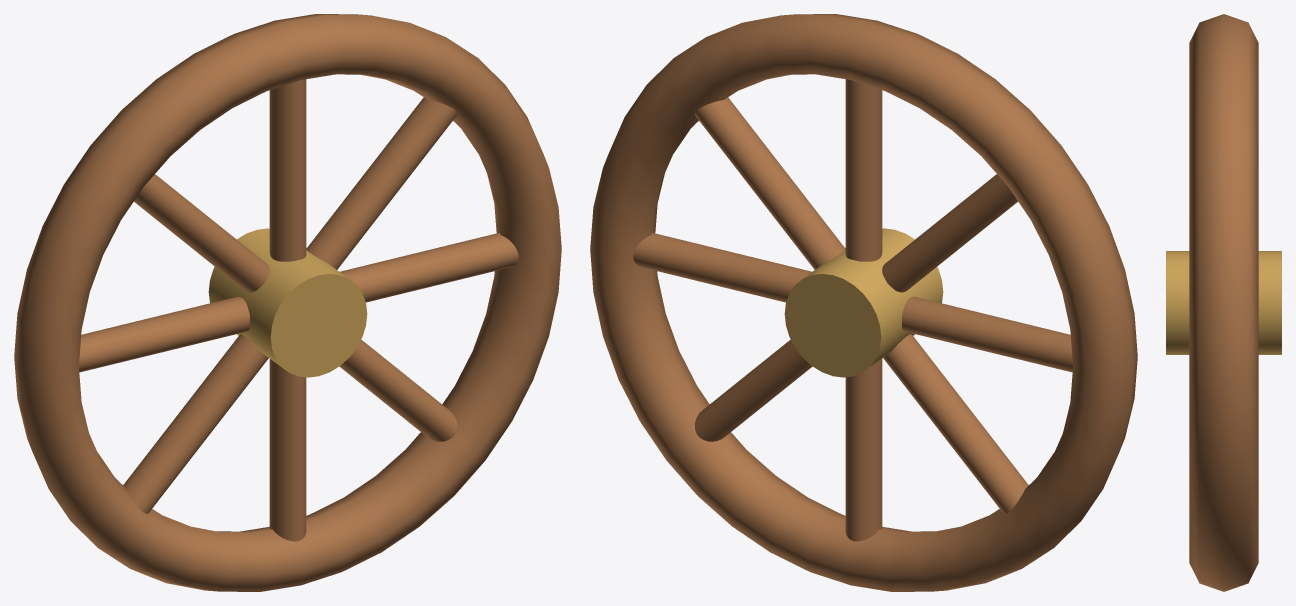
The model's file is wp-roue-de-puzzle.glb.
3 views of the same model, side by side, from view 1: azimuth 30°, elevation 25°; view 2: azimuth 150°, elevation 25°; view 3: azimuth 270°, elevation 25° (orthographic). The views are drawn at different scales.
Parts seen in each view (by area): view 1: wp-roue-de-puzzle; view 2: wp-roue-de-puzzle; view 3: wp-roue-de-puzzle.
Part boxes in pixels (<box>): wp-roue-de-puzzle: <box>14,14,561,591</box>; wp-roue-de-puzzle: <box>590,14,1137,591</box>; wp-roue-de-puzzle: <box>1166,14,1281,591</box>.
Bounding box in the file's own units: 0.6 × 0.6 × 0.12.
